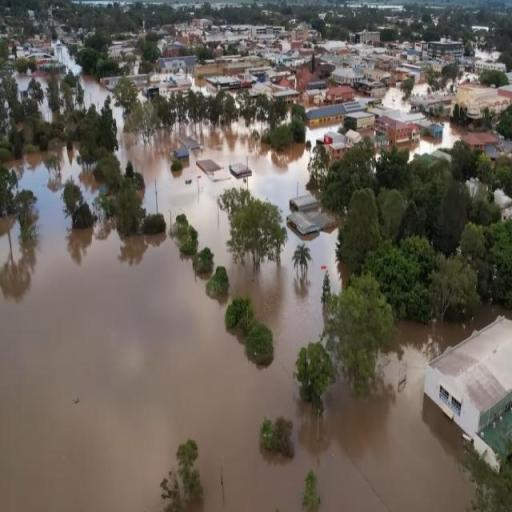flood: (0, 125, 512, 512), (56, 41, 111, 110), (411, 116, 462, 155), (14, 70, 49, 94), (383, 86, 412, 112), (306, 125, 341, 144), (188, 73, 206, 93), (39, 97, 51, 120), (414, 82, 430, 95), (462, 72, 479, 82), (114, 108, 122, 128)
house: (422, 307, 512, 492), (380, 111, 420, 151), (309, 103, 346, 128), (427, 39, 465, 62), (462, 132, 498, 156), (287, 212, 320, 234), (346, 110, 376, 130), (289, 192, 318, 211), (228, 161, 254, 180), (473, 60, 507, 74), (329, 144, 348, 162), (324, 131, 346, 146), (174, 146, 190, 160)
